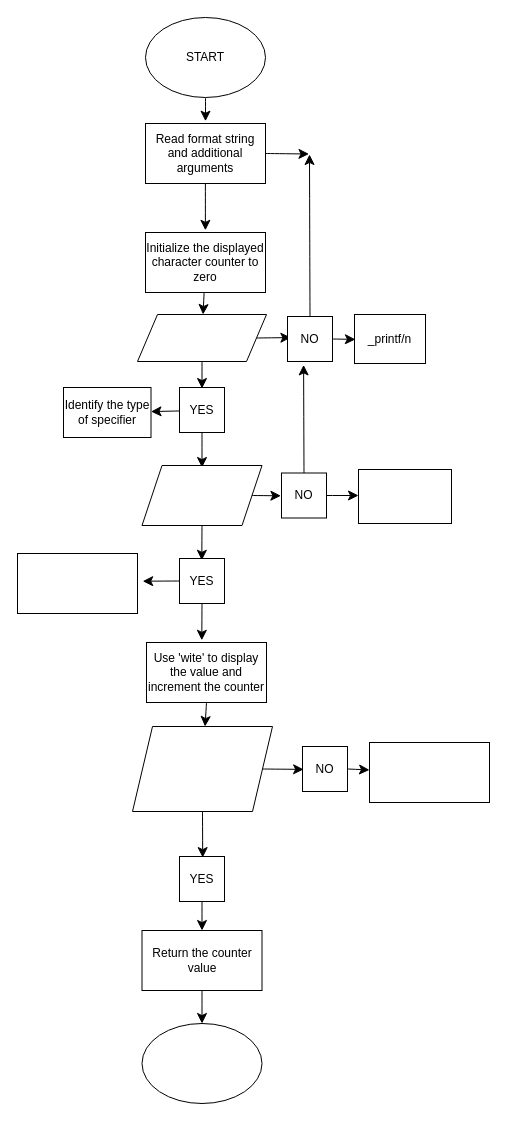
The diagram is 507 pixels wide and 1121 high, and some of its shapes have lost their labels. Each missing label, with the centre of its shape:
"Any character left?" goes at point (202, 769).
"END" goes at point (201, 1063).
"Handle an error or ignore it" goes at point (405, 496).
"Is it %c, %s, or %% ?" goes at point (201, 495).
"Is it a character % ?" goes at point (201, 338).
"Return the counter" goes at point (429, 772).
"Write the corresponding value" goes at point (77, 583).
